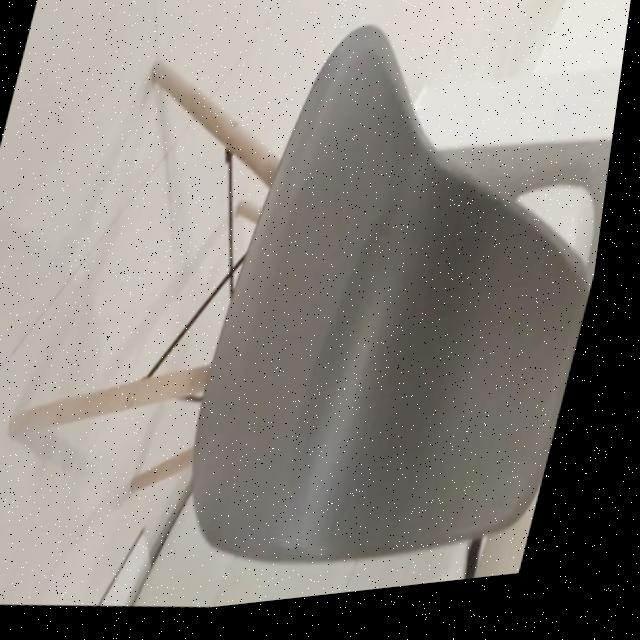sandalye: (21, 34, 598, 570)
